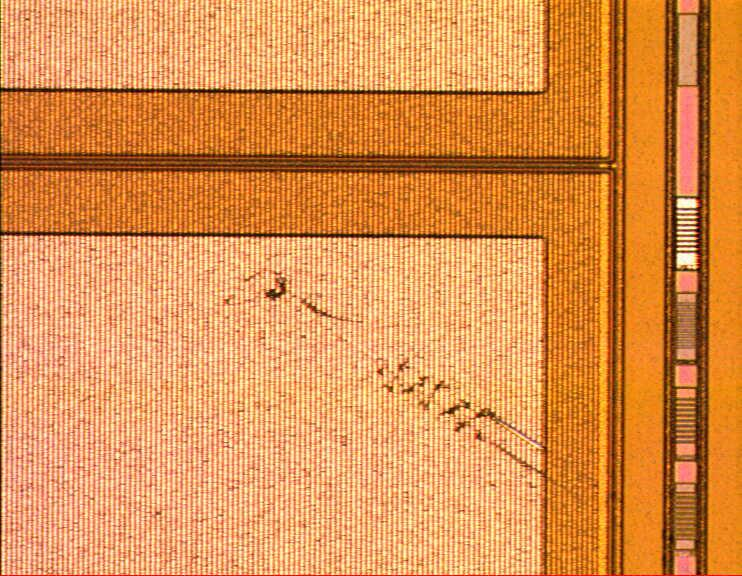SCRATCH: (218, 261, 704, 576)
